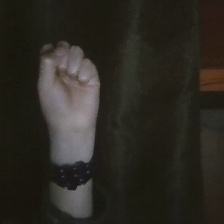S: (27, 34, 118, 146)
